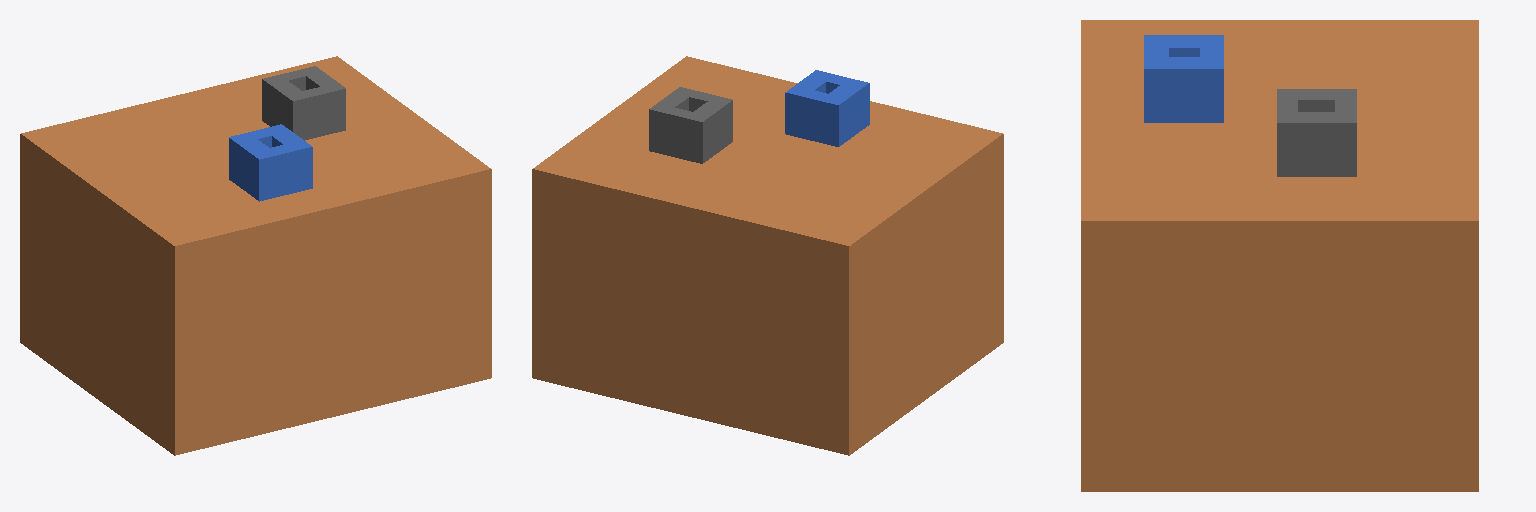
The robot description file, URDF, robot "peg_in_hole_fixtured_scene_0001_peg0008_tol01":
<?xml version="1.0"?>
<robot name="peg_in_hole_fixtured_scene_0001_peg0008_tol01">
  <material name="wood"><color rgba="0.82 0.56 0.35 1.0"/></material>
  <material name="start_fix"><color rgba="0.30 0.50 0.85 1.0"/></material>
  <material name="goal_fix"><color rgba="0.4706 0.4706 0.4706 1.0"/></material>
  <link name="box">
    <visual>
      <origin xyz="0.000000 0.000000 0.000000" rpy="0 0 0"/>
      <geometry><box size="0.475000 0.400000 0.300000"/></geometry>
      <material name="wood"/>
    </visual>
    <collision>
      <origin xyz="0.000000 0.000000 0.000000" rpy="0 0 0"/>
      <geometry><box size="0.475000 0.400000 0.300000"/></geometry>
    </collision>
    <visual>
      <origin xyz="-0.033580 -0.096163 0.155000" rpy="0 0 0"/>
      <geometry><box size="0.080000 0.080000 0.010000"/></geometry>
      <material name="start_fix"/>
    </visual>
    <collision>
      <origin xyz="-0.033580 -0.096163 0.155000" rpy="0 0 0"/>
      <geometry><box size="0.080000 0.080000 0.010000"/></geometry>
    </collision>
    <visual>
      <origin xyz="-0.008330 -0.096163 0.185000" rpy="0 0 0"/>
      <geometry><box size="0.029500 0.080000 0.050000"/></geometry>
      <material name="start_fix"/>
    </visual>
    <collision>
      <origin xyz="-0.008330 -0.096163 0.185000" rpy="0 0 0"/>
      <geometry><box size="0.029500 0.080000 0.050000"/></geometry>
    </collision>
    <visual>
      <origin xyz="-0.058830 -0.096163 0.185000" rpy="0 0 0"/>
      <geometry><box size="0.029500 0.080000 0.050000"/></geometry>
      <material name="start_fix"/>
    </visual>
    <collision>
      <origin xyz="-0.058830 -0.096163 0.185000" rpy="0 0 0"/>
      <geometry><box size="0.029500 0.080000 0.050000"/></geometry>
    </collision>
    <visual>
      <origin xyz="-0.033580 -0.068413 0.185000" rpy="0 0 0"/>
      <geometry><box size="0.021000 0.024500 0.050000"/></geometry>
      <material name="start_fix"/>
    </visual>
    <collision>
      <origin xyz="-0.033580 -0.068413 0.185000" rpy="0 0 0"/>
      <geometry><box size="0.021000 0.024500 0.050000"/></geometry>
    </collision>
    <visual>
      <origin xyz="-0.033580 -0.123913 0.185000" rpy="0 0 0"/>
      <geometry><box size="0.021000 0.024500 0.050000"/></geometry>
      <material name="start_fix"/>
    </visual>
    <collision>
      <origin xyz="-0.033580 -0.123913 0.185000" rpy="0 0 0"/>
      <geometry><box size="0.021000 0.024500 0.050000"/></geometry>
    </collision>
    <visual>
      <origin xyz="0.093701 0.036936 0.155000" rpy="0 0 0"/>
      <geometry><box size="0.080000 0.080000 0.010000"/></geometry>
      <material name="goal_fix"/>
    </visual>
    <collision>
      <origin xyz="0.093701 0.036936 0.155000" rpy="0 0 0"/>
      <geometry><box size="0.080000 0.080000 0.010000"/></geometry>
    </collision>
    <visual>
      <origin xyz="0.120565 0.036936 0.185000" rpy="0 0 0"/>
      <geometry><box size="0.026271 0.080000 0.050000"/></geometry>
      <material name="goal_fix"/>
    </visual>
    <collision>
      <origin xyz="0.120565 0.036936 0.185000" rpy="0 0 0"/>
      <geometry><box size="0.026271 0.080000 0.050000"/></geometry>
    </collision>
    <visual>
      <origin xyz="0.066836 0.036936 0.185000" rpy="0 0 0"/>
      <geometry><box size="0.026271 0.080000 0.050000"/></geometry>
      <material name="goal_fix"/>
    </visual>
    <collision>
      <origin xyz="0.066836 0.036936 0.185000" rpy="0 0 0"/>
      <geometry><box size="0.026271 0.080000 0.050000"/></geometry>
    </collision>
    <visual>
      <origin xyz="0.093701 0.066300 0.185000" rpy="0 0 0"/>
      <geometry><box size="0.027458 0.021271 0.050000"/></geometry>
      <material name="goal_fix"/>
    </visual>
    <collision>
      <origin xyz="0.093701 0.066300 0.185000" rpy="0 0 0"/>
      <geometry><box size="0.027458 0.021271 0.050000"/></geometry>
    </collision>
    <visual>
      <origin xyz="0.093701 0.007571 0.185000" rpy="0 0 0"/>
      <geometry><box size="0.027458 0.021271 0.050000"/></geometry>
      <material name="goal_fix"/>
    </visual>
    <collision>
      <origin xyz="0.093701 0.007571 0.185000" rpy="0 0 0"/>
      <geometry><box size="0.027458 0.021271 0.050000"/></geometry>
    </collision>
    <inertial>
      <mass value="500"/>
      <friction value="1.0"/>
      <inertia ixx="1000.0" ixy="0.0" ixz="0.0" iyy="1000.0" iyz="0.0" izz="1000.0"/>
    </inertial>
  </link>
</robot>

--- What the picture shows (computed from the rendered views, not written in the file) ---
3 views of the same robot in one strip: view 1: azimuth 30°, elevation 25°; view 2: azimuth 150°, elevation 25°; view 3: azimuth 270°, elevation 25° (orthographic).
Robot: peg_in_hole_fixtured_scene_0001_peg0008_tol01 — 1 links, 0 joints (none); root link box; default pose: all joints at 0.
Links seen in each view (by area): view 1: box; view 2: box; view 3: box.
Link boxes in pixels (bbox=[...]): box: bbox=[20, 56, 491, 455]; box: bbox=[532, 56, 1003, 455]; box: bbox=[1081, 20, 1478, 491].
Bounding box of the posed robot: 0.475 × 0.4 × 0.36 m (x, y, z).
Geometry: primitives only (box / cylinder / sphere), no mesh files.
